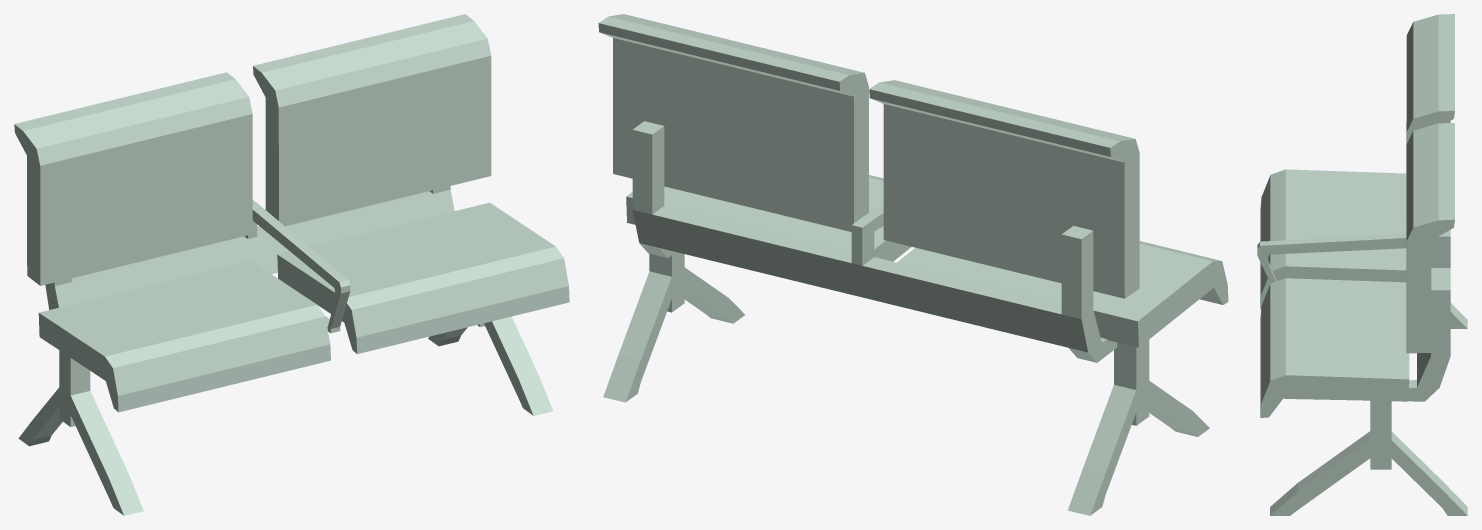
File: Bench.fbx
The picture shows the model from 3 angles, left to right: view 1: azimuth 30°, elevation 25°; view 2: azimuth 150°, elevation 25°; view 3: azimuth 270°, elevation 25°; orthographic projection. The views are drawn at different scales.
Visible parts, largest first — view 1: Cube, Bench.001; view 2: Cube, Bench.001; view 3: Cube, Bench.001.
Part boxes in pixels (box(x1,y1,x2,y2)): Cube: box(14, 14, 569, 515); Bench.001: box(244, 200, 350, 333); Cube: box(598, 14, 1228, 515); Bench.001: box(851, 204, 883, 265); Cube: box(1260, 14, 1467, 515); Bench.001: box(1257, 232, 1450, 283).
Bounding box in the file's own units: 177 × 121 × 76.51.
